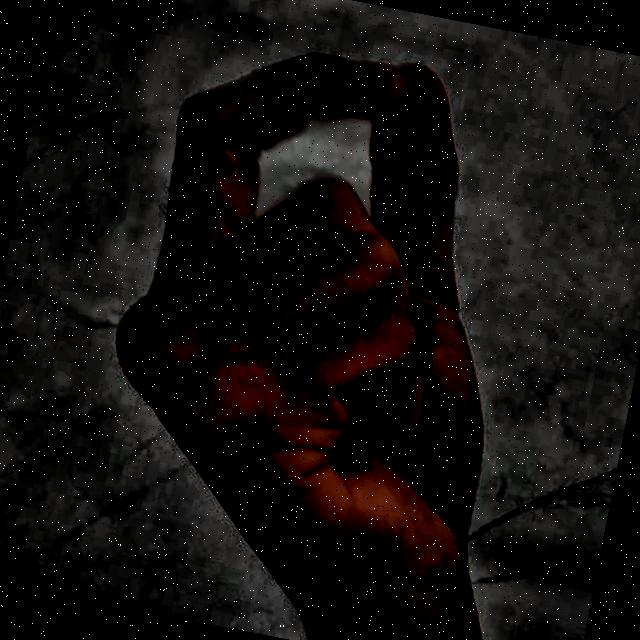Gha: (44, 0, 622, 640)
